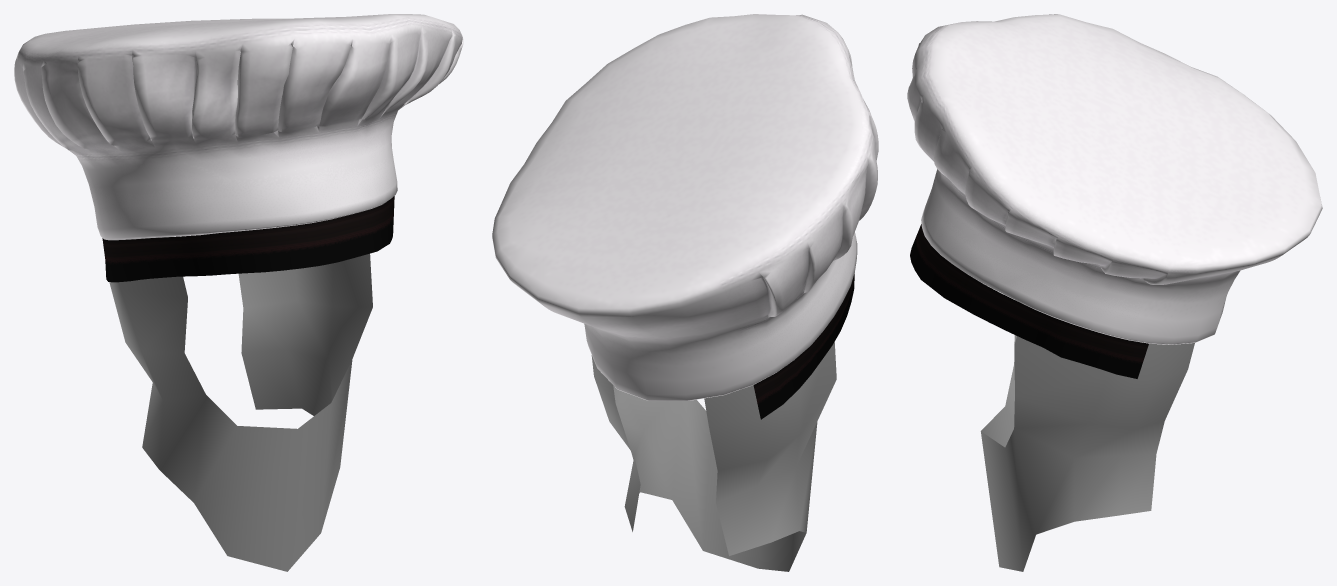
File: chef.fbx
The picture shows the model from 3 angles, left to right: view 1: azimuth 30°, elevation 25°; view 2: azimuth 150°, elevation 25°; view 3: azimuth 270°, elevation 25°; orthographic projection. The views are drawn at different scales.
Parts seen in each view (by area): view 1: hat_low, matte, Shadow; view 2: hat_low, matte, Shadow; view 3: hat_low, matte, Shadow.
Part boxes in pixels (box(x1,y1,x2,y2)): hat_low: box(14, 14, 463, 240); matte: box(109, 237, 372, 571); Shadow: box(102, 196, 394, 282); hat_low: box(492, 14, 878, 400); matte: box(591, 342, 836, 571); Shadow: box(753, 273, 854, 419); hat_low: box(907, 14, 1322, 344); matte: box(980, 300, 1194, 571); Shadow: box(910, 224, 1148, 378).
Bounding box in the file's own units: 265 × 397 × 286.
